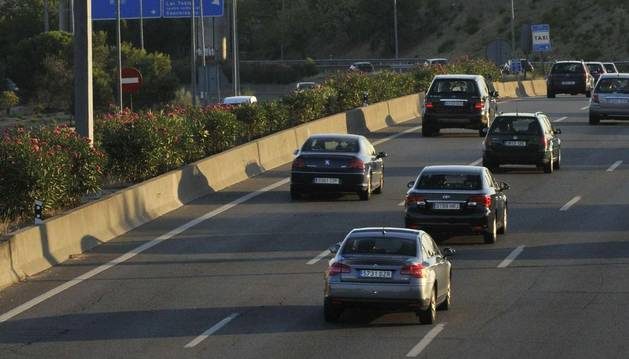Vehiculo: (322, 224, 458, 323), (400, 162, 511, 241), (286, 130, 389, 199)
